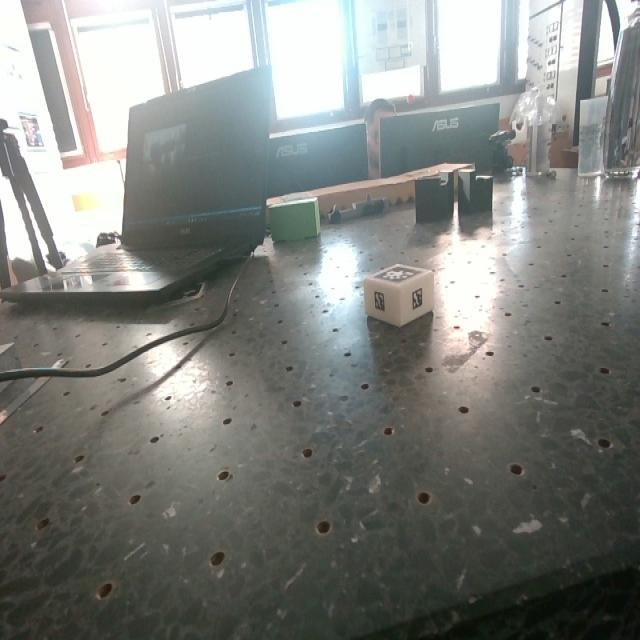Cube: (365, 260, 434, 325)
